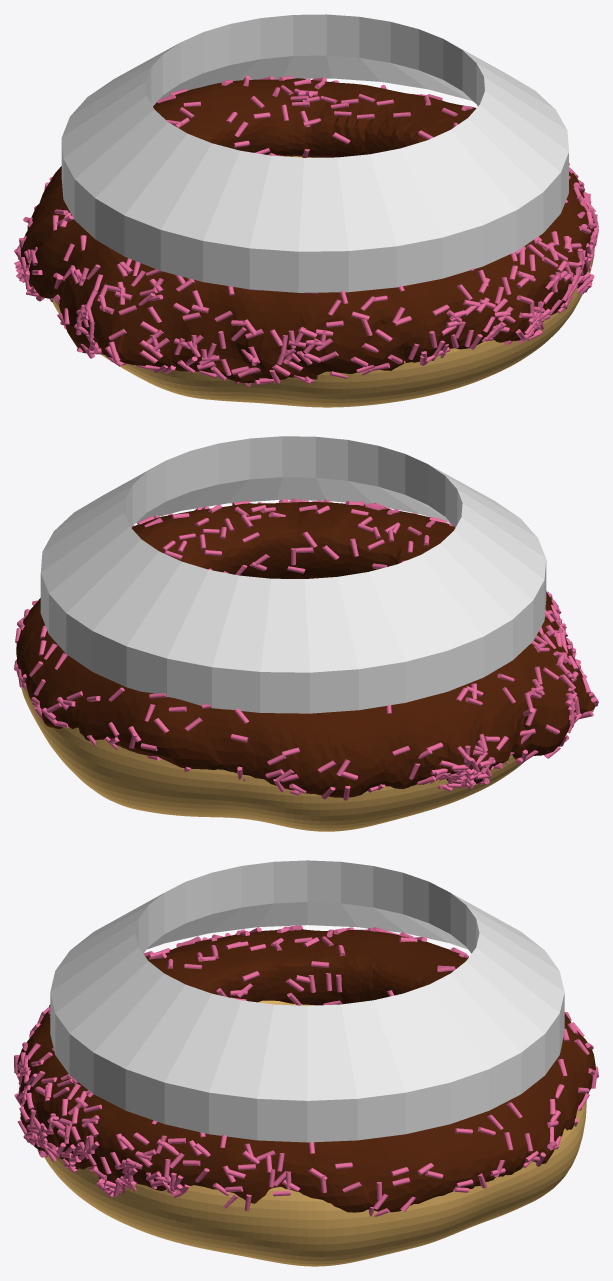
File: Donut.fbx
3 views of the same model, one above another, from view 1: azimuth 30°, elevation 25°; view 2: azimuth 150°, elevation 25°; view 3: azimuth 270°, elevation 25° (orthographic).
Visible parts, largest first — view 1: Circle, Cube, Torus; view 2: Circle, Cube, Torus; view 3: Circle, Cube, Torus.
Boxes of the visible parts, <box> form: Circle: <box>61,14,568,292</box>; Cube: <box>20,78,594,383</box>; Torus: <box>52,156,593,407</box>; Circle: <box>40,436,546,713</box>; Cube: <box>16,502,594,797</box>; Torus: <box>21,687,523,831</box>; Circle: <box>50,860,564,1142</box>; Cube: <box>17,929,595,1212</box>; Torus: <box>44,1000,586,1266</box>.
Size of the model in its own units: 192 by 192 by 85.69.
